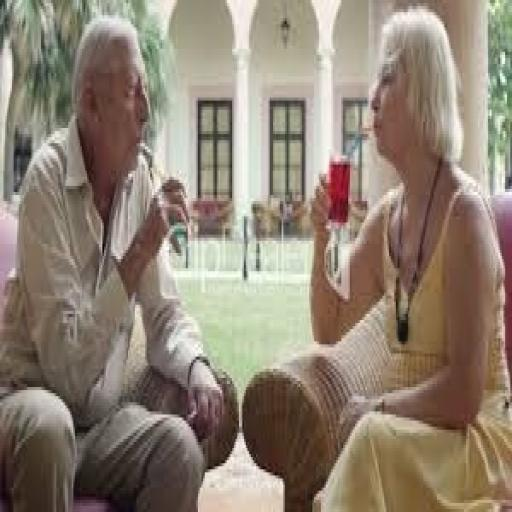drinking: (262, 58, 453, 305), (81, 64, 225, 356)
